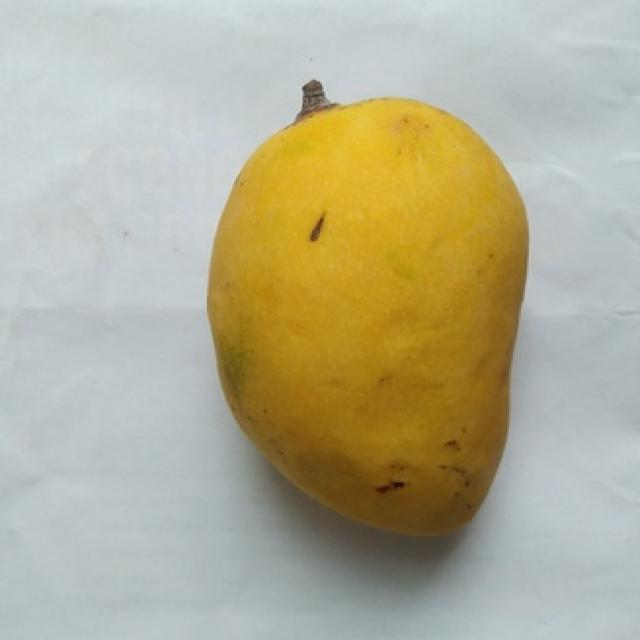Mango: (207, 83, 525, 535)
